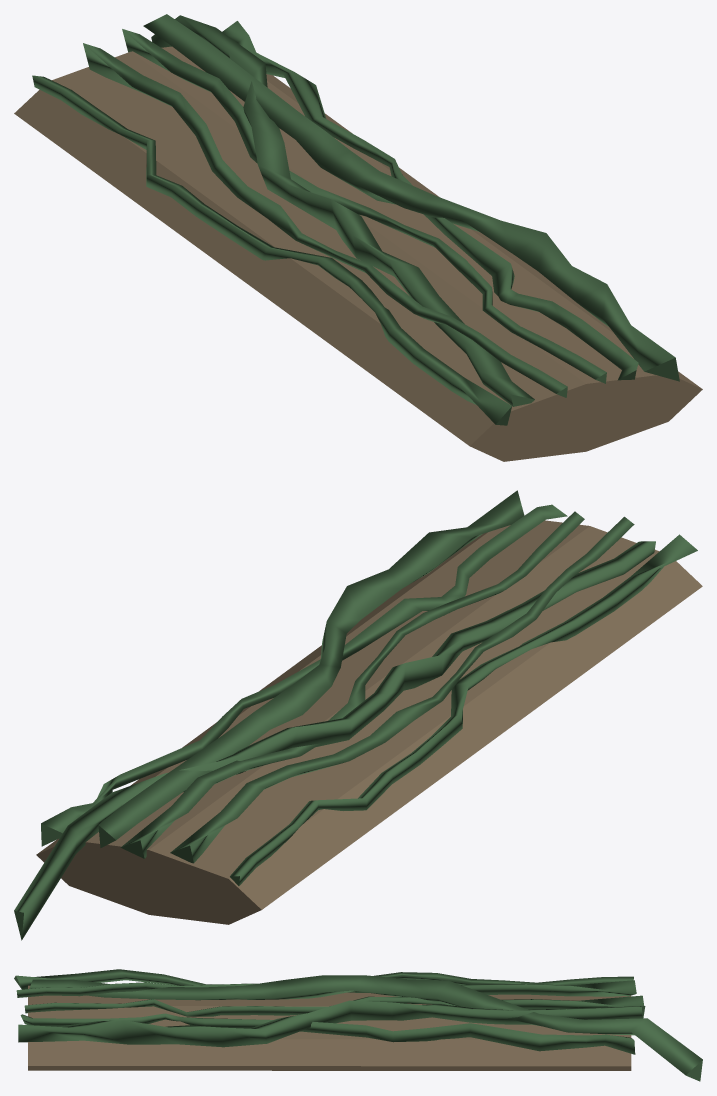
The model's file is plant bridge complete (1).fbx.
3 views of the same model, one above another, from view 1: azimuth 30°, elevation 25°; view 2: azimuth 150°, elevation 25°; view 3: azimuth 270°, elevation 25° (orthographic). The views are drawn at different scales.
Parts seen in each view (by area): view 1: polySurface1, polySurface11; view 2: polySurface1, polySurface11; view 3: polySurface11, polySurface1.
Part boxes in pixels (left/top/right/bottom): polySurface1: left=14, top=46, right=702, bottom=461; polySurface11: left=32, top=14, right=679, bottom=425; polySurface1: left=36, top=520, right=702, bottom=924; polySurface11: left=14, top=490, right=697, bottom=940; polySurface11: left=14, top=969, right=702, bottom=1081; polySurface1: left=28, top=985, right=631, bottom=1070.
Size of the model in its own units: 7.21 by 3.13 by 27.84.
